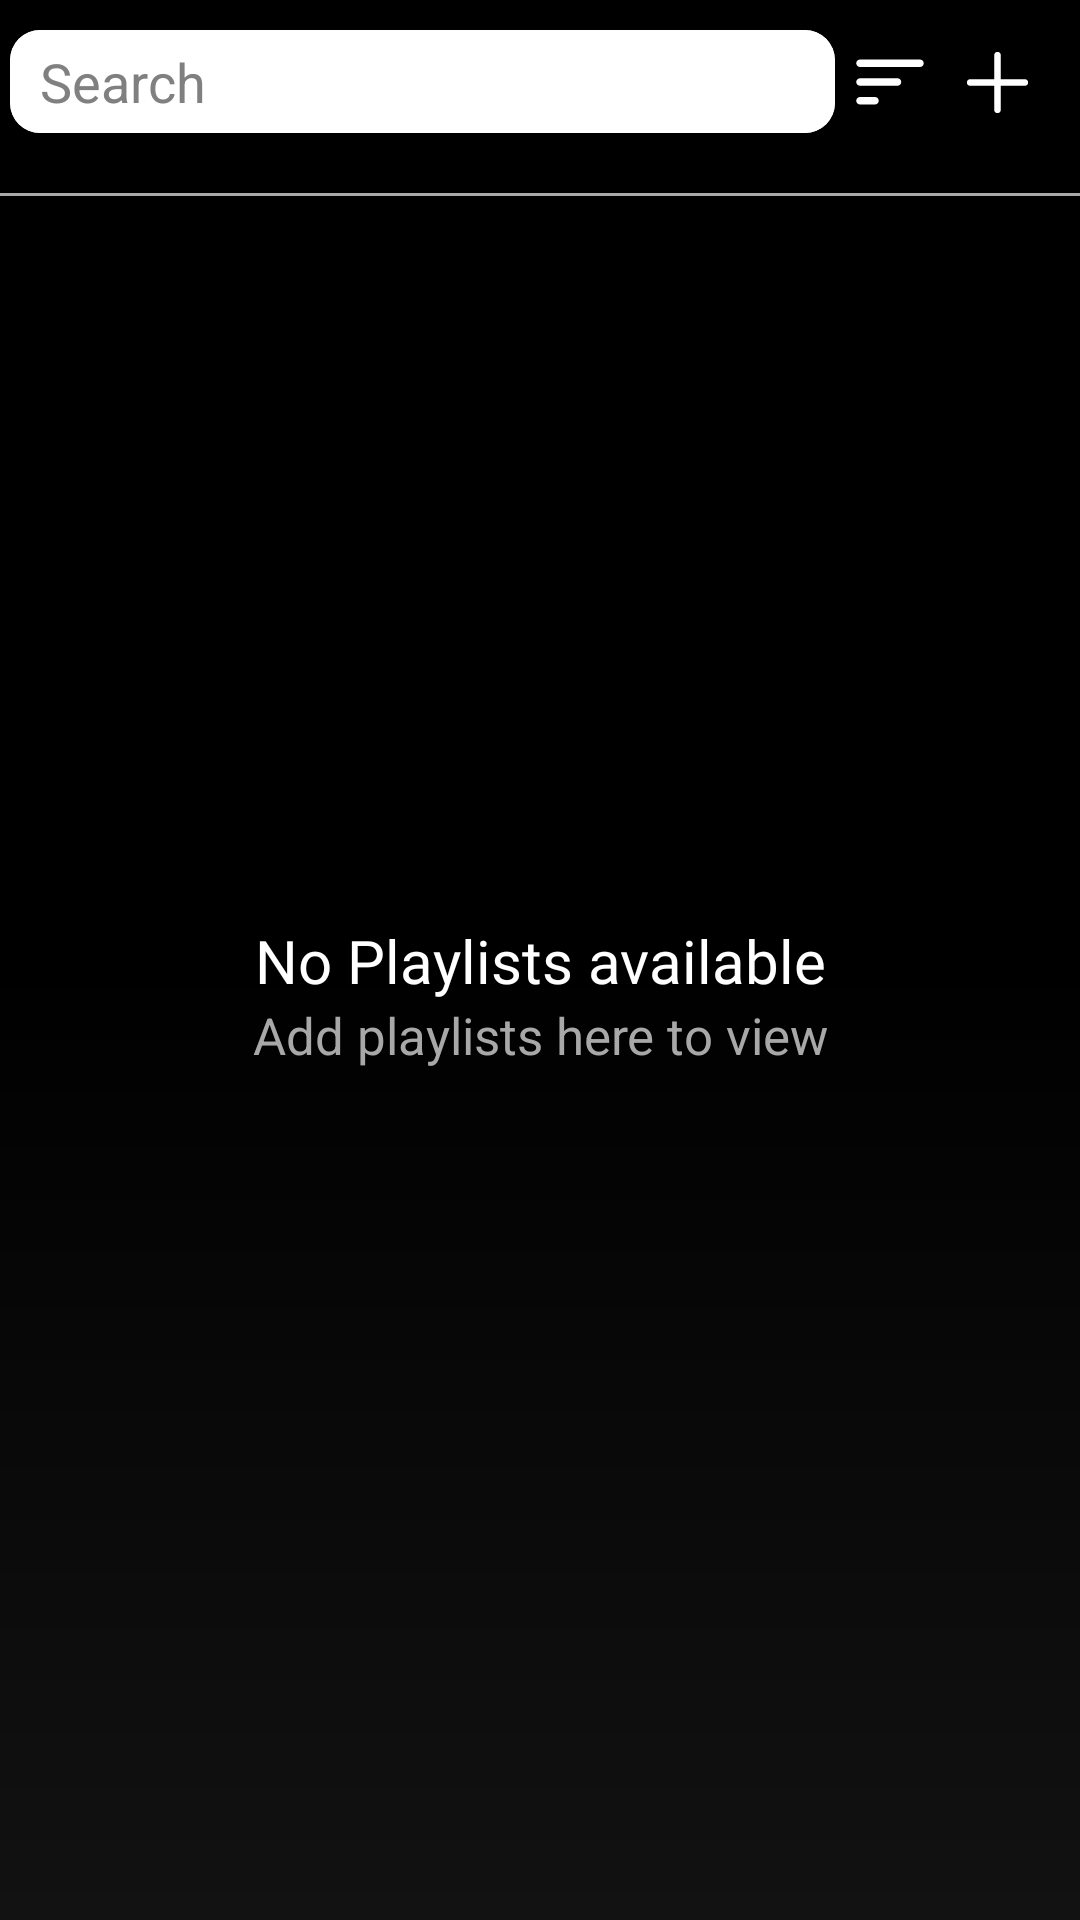

Icon bounding boxes for this 1080w x 1920h phone screenshot, format (x1, y1, x2, y2):
add: (967, 52, 1028, 113)
sort: (856, 59, 924, 105)
